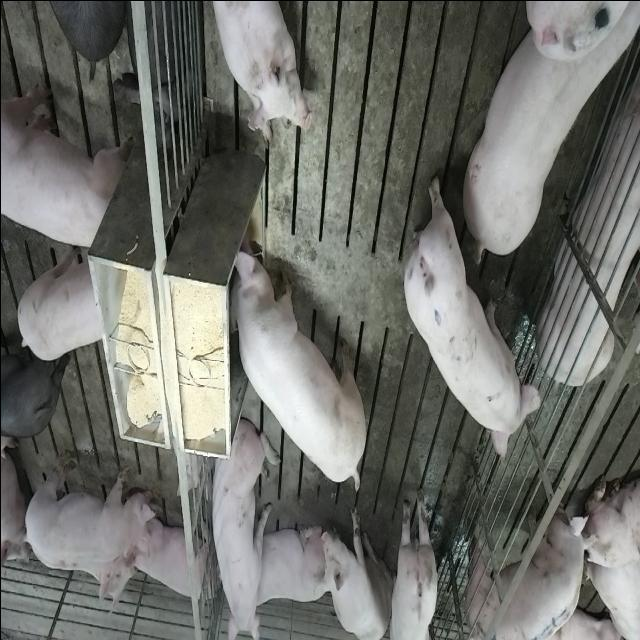Feeding: (220, 243, 362, 493)
Sitting: (205, 411, 274, 636), (320, 504, 390, 640)
Standing: (458, 6, 635, 266), (402, 170, 544, 464), (1, 73, 125, 253), (462, 501, 590, 640), (20, 452, 158, 560), (15, 240, 106, 360), (385, 478, 439, 638), (0, 324, 59, 444)
Sternal_lying: (539, 59, 640, 384), (205, 0, 307, 139), (130, 507, 213, 611), (248, 518, 328, 608), (75, 535, 137, 613)
